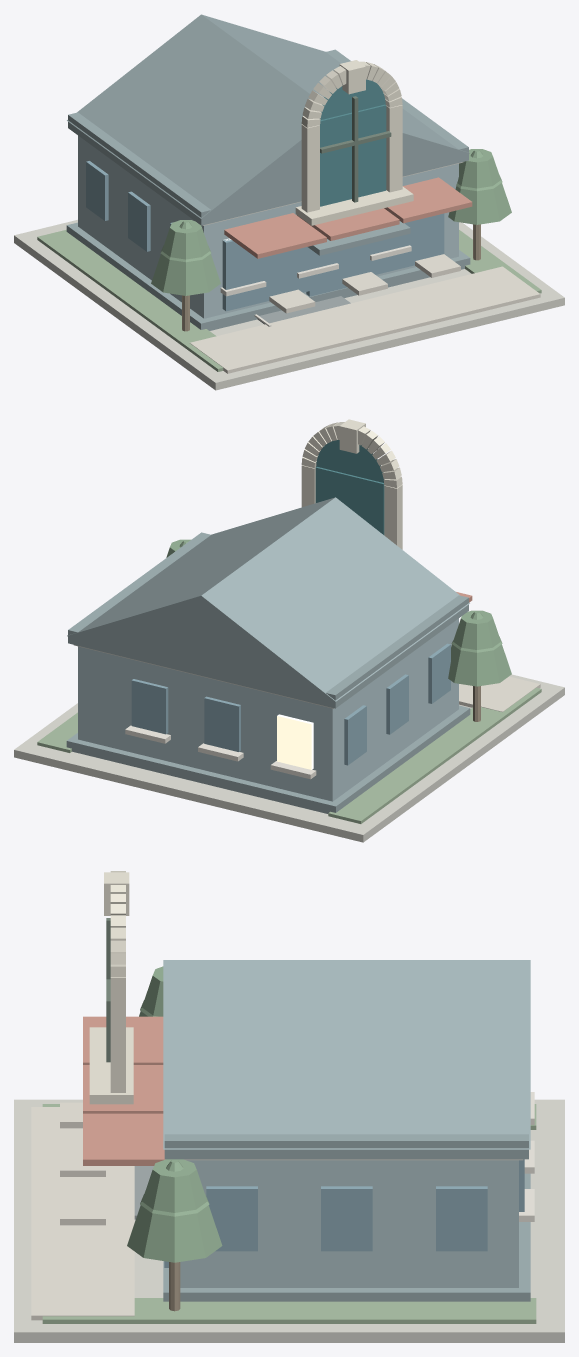
Rendered from remaster_shop_3.glb.
3 renders of one model, top to bottom at view 1: azimuth 30°, elevation 25°; view 2: azimuth 150°, elevation 25°; view 3: azimuth 270°, elevation 25°, orthographic. The views are drawn at different scales.
Parts seen in each view (by area): view 1: remaster_shop_3 roof, remaster_shop_3 cream, remaster_shop_3 stone, remaster_shop_3 glass, remaster_shop_3 blue, remaster_shop_3 leaf, remaster_shop_3 red, remaster_shop_3 green, Window glass.004, Window sill.112, Arched window pier L.004, Arched window pier R.004 (+7 smaller); view 2: remaster_shop_3 roof, remaster_shop_3 blue, remaster_shop_3 stone, remaster_shop_3 glass, remaster_shop_3 green, remaster_shop_3 leaf, Window glass.004, remaster_shop_3 warm, Fanlight.004, remaster_shop_3 cream, remaster_shop_3 white, Arched window pier L.004 (+2 smaller); view 3: remaster_shop_3 roof, remaster_shop_3 blue, remaster_shop_3 stone, remaster_shop_3 cream, remaster_shop_3 glass, remaster_shop_3 green, remaster_shop_3 red, remaster_shop_3 leaf, Window sill.112, Arched window pier R.004, remaster_shop_3 white, Arched window keystone.004 (+3 smaller).
Part boxes in pixels (<box>): remaster_shop_3 roof: <box>66,14,470,330</box>; remaster_shop_3 cream: <box>190,254,540,373</box>; remaster_shop_3 stone: <box>14,162,564,390</box>; remaster_shop_3 glass: <box>86,161,444,311</box>; remaster_shop_3 blue: <box>78,135,458,318</box>; remaster_shop_3 leaf: <box>151,149,511,295</box>; remaster_shop_3 red: <box>224,177,472,258</box>; remaster_shop_3 green: <box>37,229,541,371</box>; Window glass.004: <box>320,104,386,206</box>; Window sill.112: <box>295,186,413,225</box>; Arched window pier L.004: <box>301,124,319,212</box>; Arched window pier R.004: <box>386,105,402,192</box>; remaster_shop_3 roof: <box>66,497,470,813</box>; remaster_shop_3 blue: <box>78,618,458,801</box>; remaster_shop_3 stone: <box>14,645,564,842</box>; remaster_shop_3 glass: <box>131,643,450,765</box>; remaster_shop_3 green: <box>37,687,541,823</box>; remaster_shop_3 leaf: <box>166,539,511,686</box>; Window glass.004: <box>315,467,384,534</box>; remaster_shop_3 warm: <box>277,714,313,769</box>; Fanlight.004: <box>316,440,384,482</box>; remaster_shop_3 cream: <box>459,676,540,711</box>; remaster_shop_3 white: <box>125,725,316,779</box>; Arched window pier L.004: <box>384,484,402,549</box>; remaster_shop_3 roof: <box>163,960,530,1301</box>; remaster_shop_3 blue: <box>180,1160,518,1287</box>; remaster_shop_3 stone: <box>14,1099,564,1342</box>; remaster_shop_3 cream: <box>31,1102,134,1320</box>; remaster_shop_3 glass: <box>164,1159,524,1267</box>; remaster_shop_3 green: <box>42,1104,536,1323</box>; remaster_shop_3 red: <box>83,1016,165,1165</box>; remaster_shop_3 leaf: <box>127,966,222,1262</box>; Window sill.112: <box>89,1027,133,1104</box>; Arched window pier R.004: <box>110,977,125,1092</box>; remaster_shop_3 white: <box>519,1092,534,1221</box>; Arched window keystone.004: <box>104,872,129,915</box>.
Bounding box in the file's own units: 9.64 × 6.7 × 9.6.
